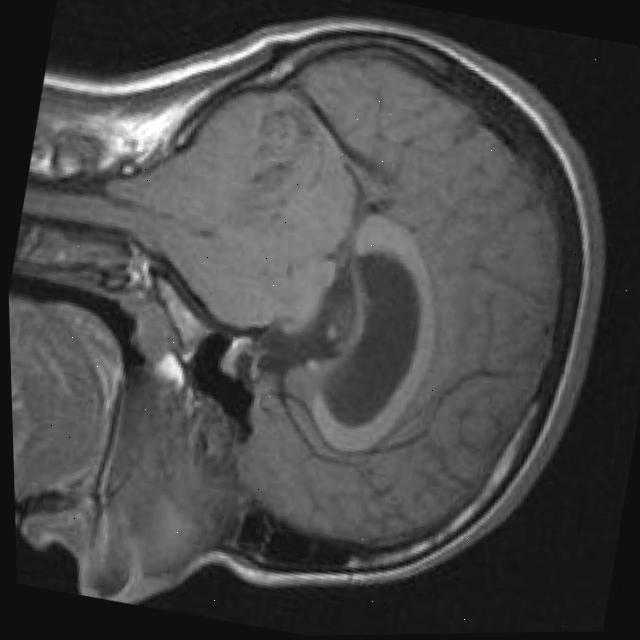NoTumor: (31, 0, 640, 640)
